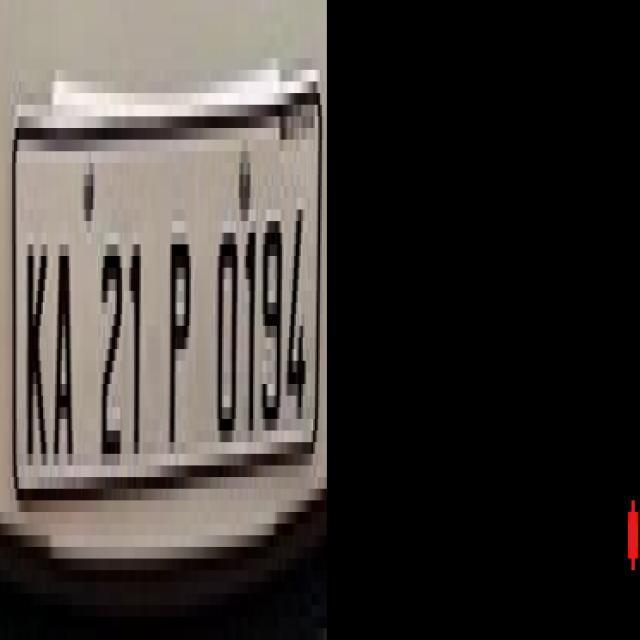0: (213, 198, 238, 444)
1: (124, 217, 145, 482), (242, 199, 257, 441)
4: (286, 178, 311, 442)
9: (260, 204, 285, 430)
A: (53, 229, 76, 493)
K: (21, 203, 50, 486)
P: (164, 212, 192, 476)
